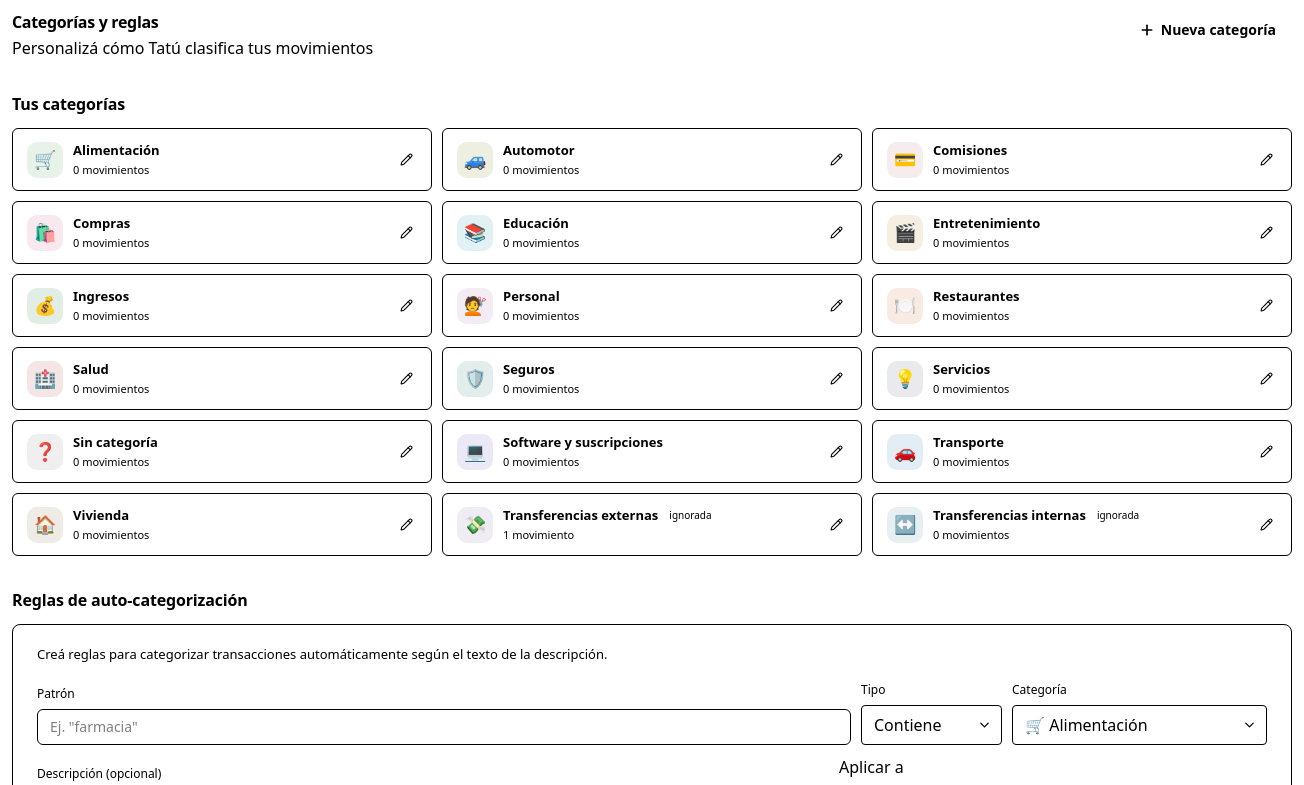
Scenario: Categories › shows a category's spend as soon as it stops being ignored
The width and height of the screenshot is (1304, 785).
Check: the text "US$ 9,00" is not shown
Click the button named "Editar categoría Transferencias externas": coordinates (836, 524) [826,514,847,535]
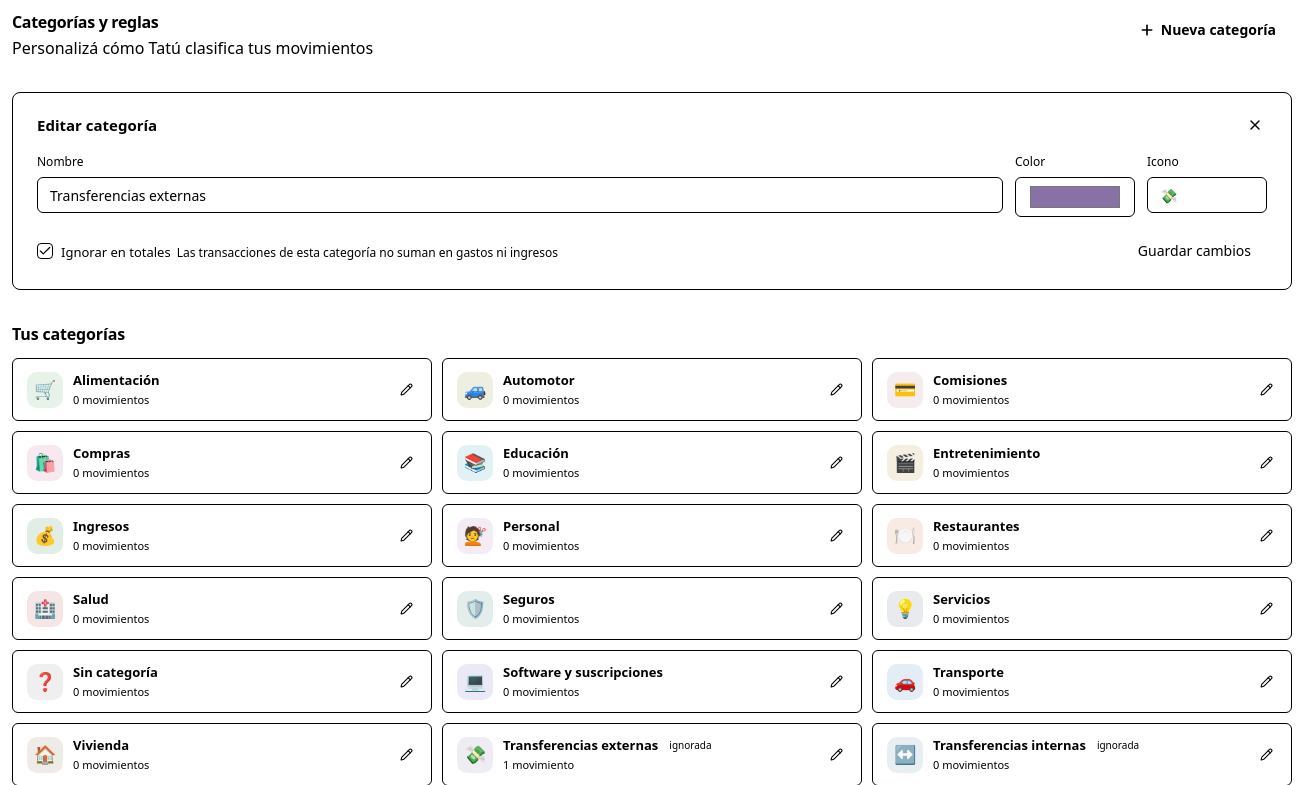
Click the checkbox: coordinates (45, 251) [37,243,53,259]
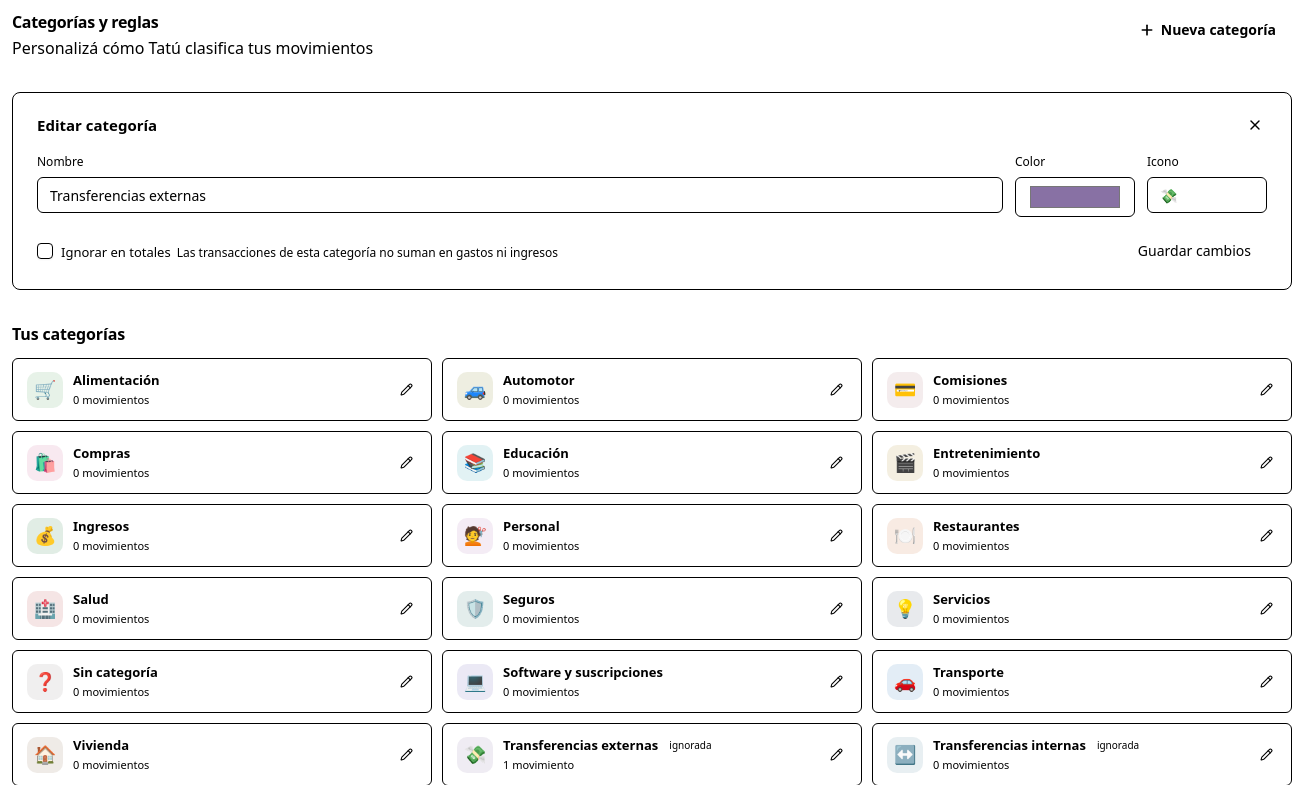
Click the button "Guardar cambios": coordinates (1194, 251) [1122,233,1267,269]
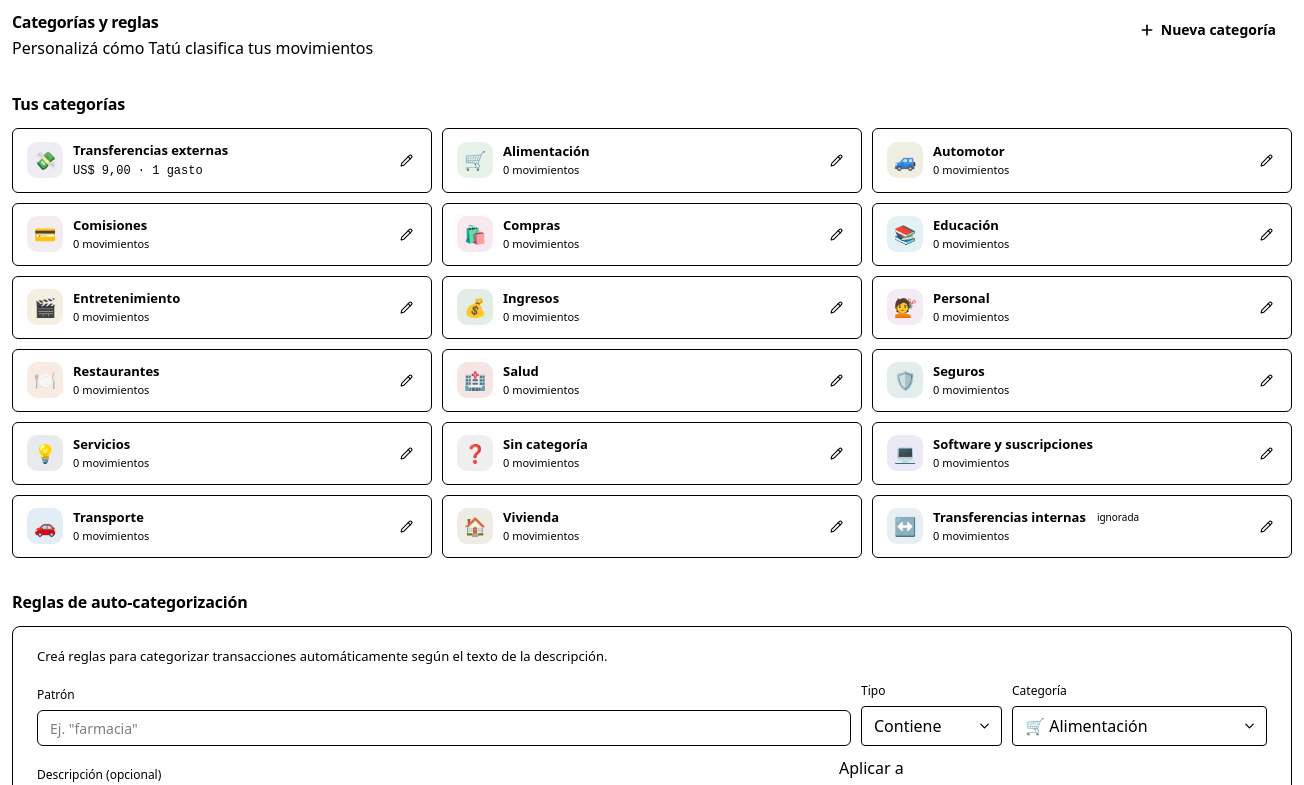
Check: the text "US$ 9,00 · 1 gasto" is shown, box [73,164,203,178]
